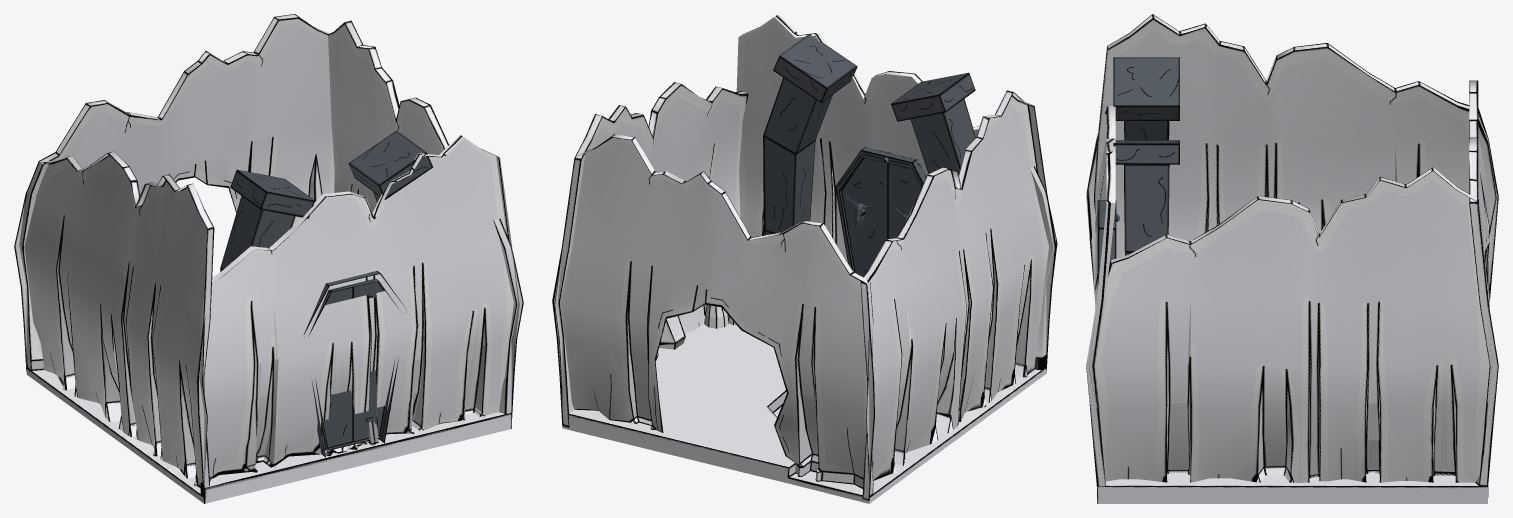
File: Grotte_lac.fbx
The picture shows the model from 3 angles, left to right: view 1: azimuth 30°, elevation 25°; view 2: azimuth 150°, elevation 25°; view 3: azimuth 270°, elevation 25°; orthographic projection. The views are drawn at different scales.
Visible parts, largest first — view 1: mur_glace12, mur_glace4, mur_glace1, mur_glace17, sol, pilier4, pilier3, lac, grande_porteR, grande_porte_frame, grande_porteL; view 2: mur_glace1, mur_glace4, sol, mur_glace12, mur_glace17, pilier3, pilier4, lac, grande_porteL, grande_porteR, grande_porte_frame; view 3: mur_glace17, mur_glace4, sol, mur_glace1, pilier3, mur_glace12, pilier4, grande_porte_frame.
Boxes of the visible parts, x1,y1,x2,y2 form: mur_glace12: (199,134,519,495); mur_glace4: (14,151,214,500); mur_glace1: (19,14,334,370); mur_glace17: (328,20,523,417); sol: (204,412,511,503); pilier4: (220,169,314,461); pilier3: (348,130,433,202); lac: (26,368,204,503); grande_porteR: (321,284,353,448); grande_porte_frame: (303,271,406,457); grande_porteL: (352,278,384,442); mur_glace1: (554,134,873,496); mur_glace4: (860,90,1056,500); sol: (562,315,795,483); mur_glace12: (736,14,1057,369); mur_glace17: (552,82,748,427); pilier3: (763,34,857,235); pilier4: (891,72,975,174); lac: (773,367,1046,503); grande_porteL: (841,157,887,277); grande_porteR: (888,163,920,238); grande_porte_frame: (835,147,926,271); mur_glace17: (1089,167,1491,497); mur_glace4: (1094,14,1496,286); sol: (1097,474,1487,503); mur_glace1: (1469,80,1498,486); pilier3: (1113,140,1179,255); mur_glace12: (1086,106,1115,486); pilier4: (1113,57,1179,140); grande_porte_frame: (1097,200,1116,288).
Bounding box in the file's own units: 844 × 750 × 844.
